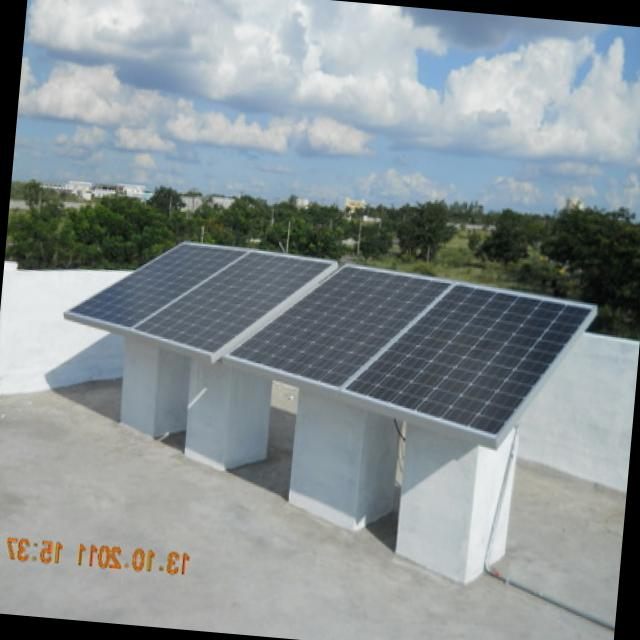faulty: (67, 245, 595, 439)
